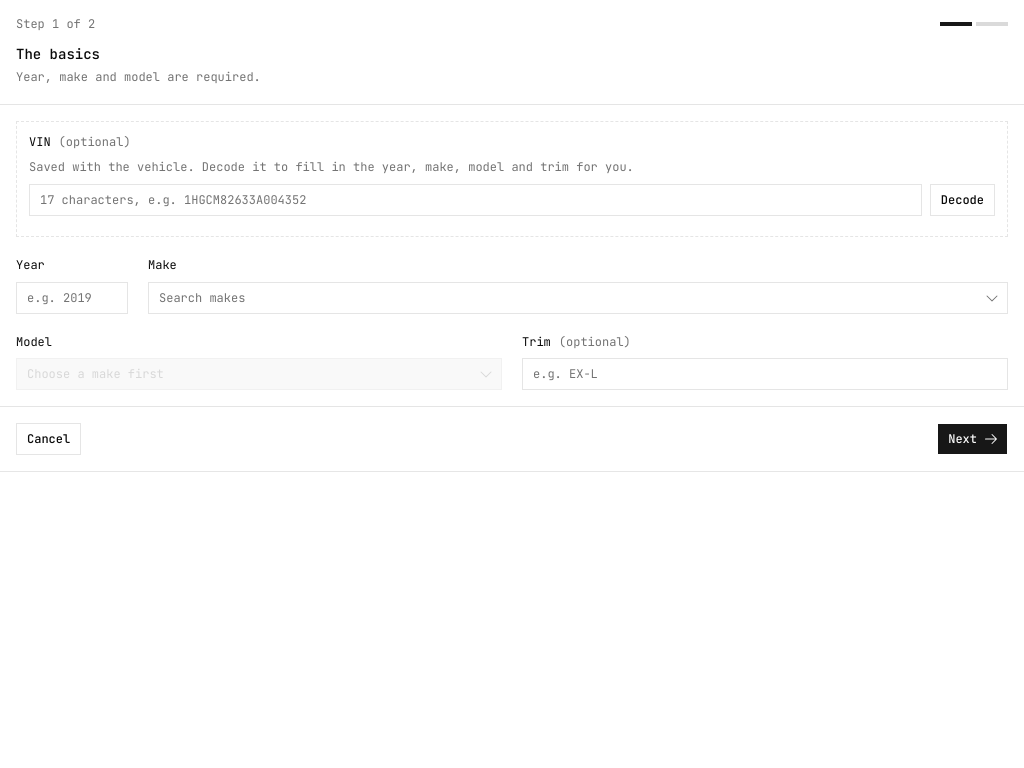
Test: VehicleForm wizard › blocks Next until step 1 is valid
Expected: the text "Step 1 of 2" is shown, [16,16,95,32]
What coordinates should you click on to do the following:
click the button "Next"
I would click on:
 (973, 439)
Its box is [937,423,1008,455].
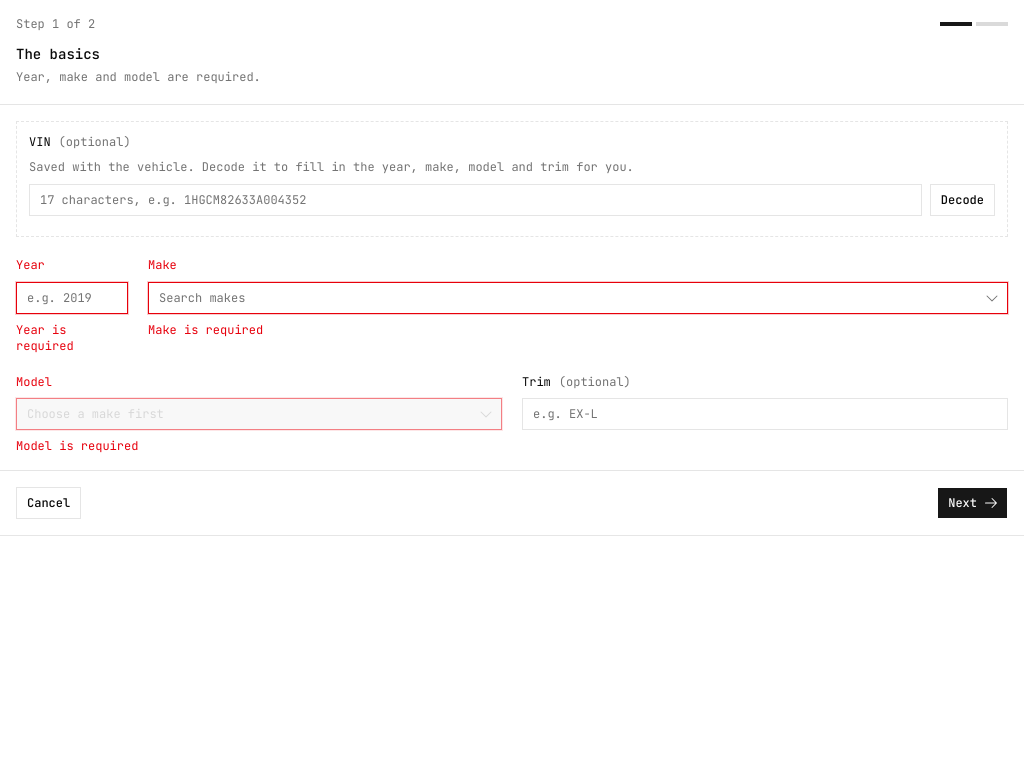
Now the text "Year is required" is shown, box [16,322,74,354]
Now the text "Make is required" is shown, box [148,322,263,338]
Now the text "Model is required" is shown, box [16,438,138,454]
